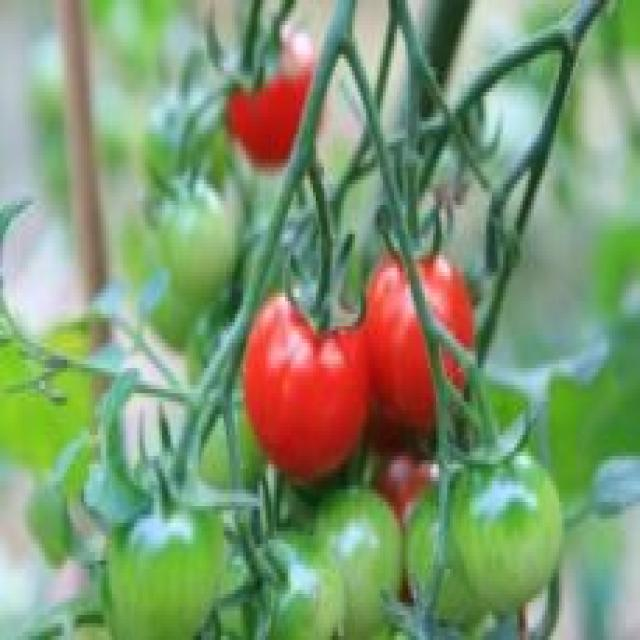level 1: (212, 509, 342, 640)
level 2: (435, 438, 573, 618), (145, 160, 246, 341), (400, 476, 510, 637), (100, 510, 232, 640), (308, 483, 416, 635)
level 6: (227, 268, 386, 475), (364, 232, 482, 430), (224, 47, 341, 170), (368, 442, 444, 606)
